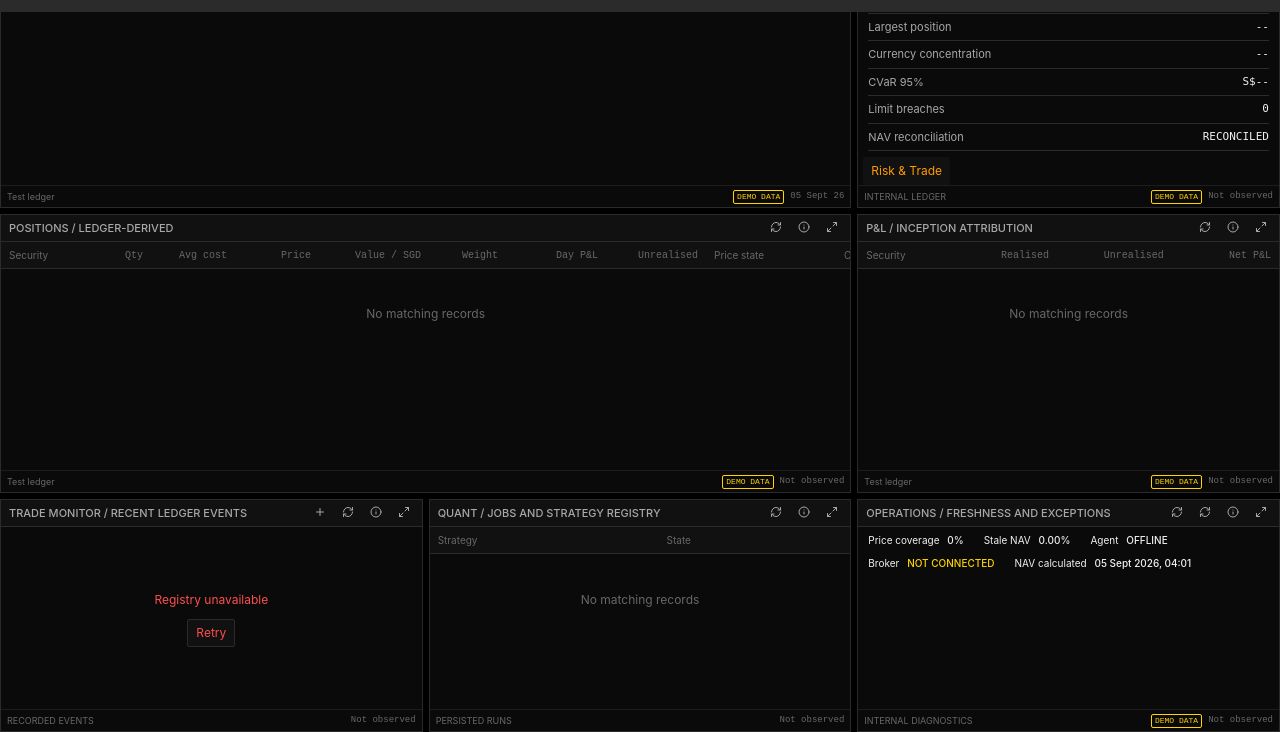
Scenario: shows a failed /api/v1/operations/trades request and supports retry
Expected: the message shows "Registry unavailable", top-left (154, 592), bottom-right (268, 606)
What coordinates should you click on to do the following:
click the button "Retry"
I would click on:
 (211, 633)
Its box is top-left (187, 619), bottom-right (235, 647).
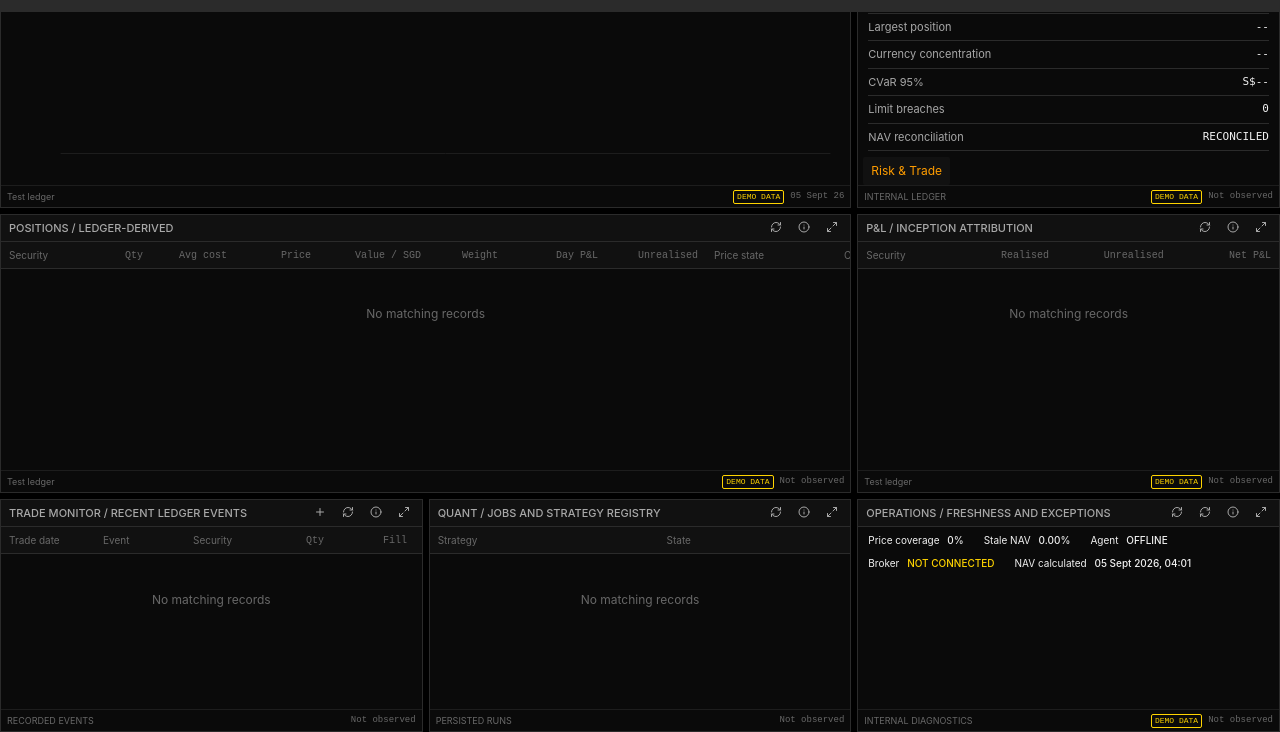
Now the text "No matching records" below "Trade monitor / recent ledger events" is shown, box top-left (152, 592), bottom-right (271, 607)
Now the message "Registry unavailable Retry" is gone
